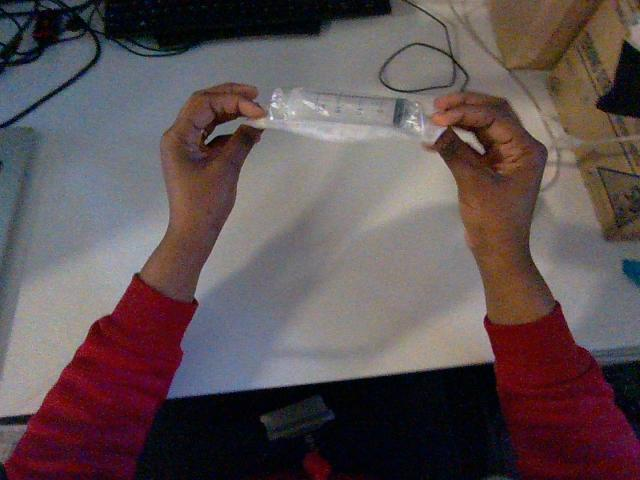syringe: (249, 88, 444, 143)
